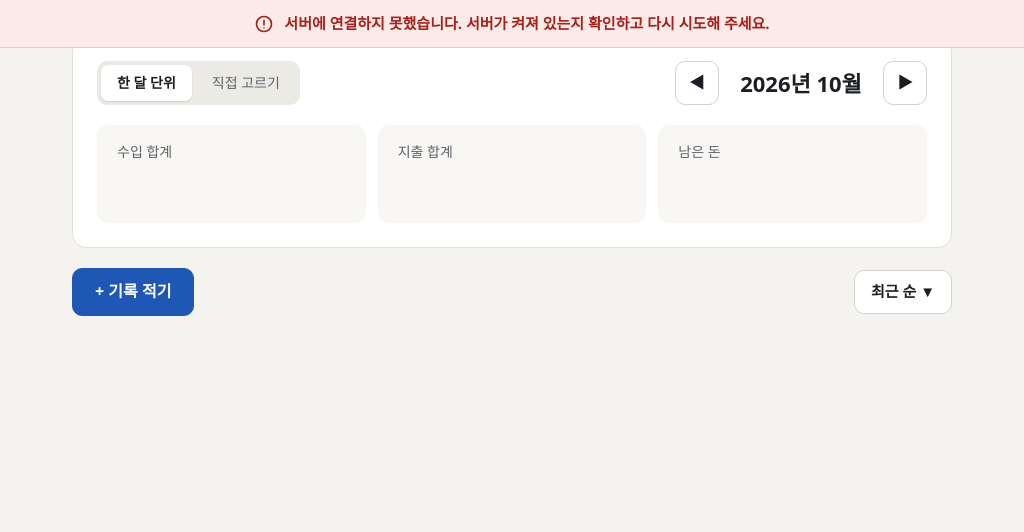
Test case: 실패 알림 (P-18) › 사용자가 다시 요청을 보내면(예: 다음 달) 실패 알림을 지운다
The width and height of the screenshot is (1024, 532).
Expected: the message "서버에 연결하지 못했습니다. 서버가 켜져 있는지 확인하고 다시 시도해 주세요." is shown, [0,0,1023,48]
Step 1. Click the button named "다음 달" → (905, 83), box [883,61,927,105]
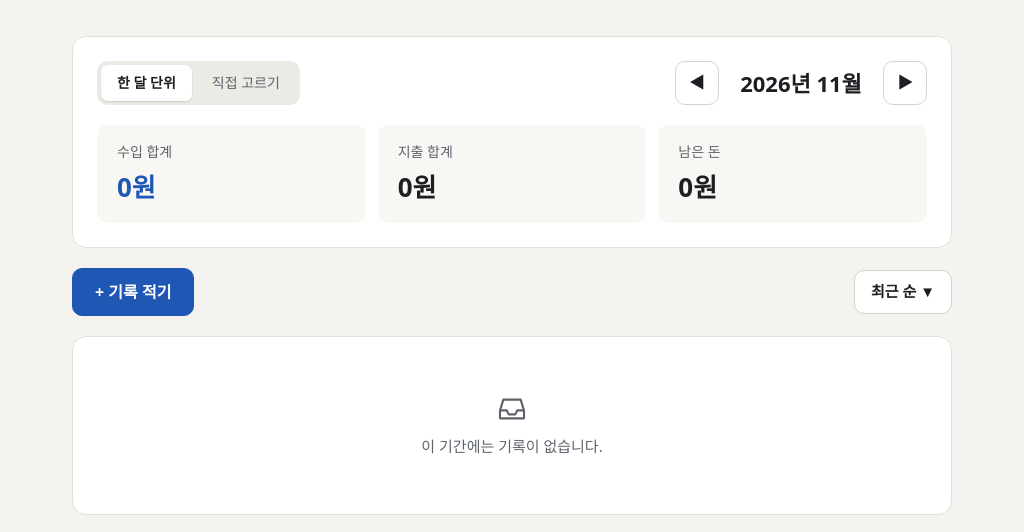
Expected: the message "서버에 연결하지 못했습니다. 서버가 켜져 있는지 확인하고 다시 시도해 주세요." is gone
Expected: the text "이 기간에는 기록이 없습니다." is shown, [421,435,603,458]
